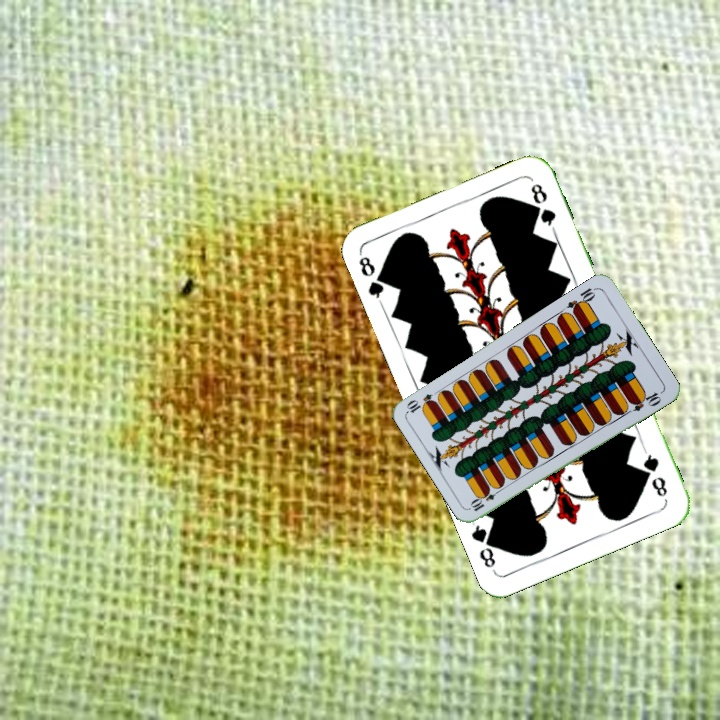E10: (563, 284, 599, 316), (467, 484, 504, 514)
G8: (354, 250, 392, 307), (639, 446, 670, 500)
